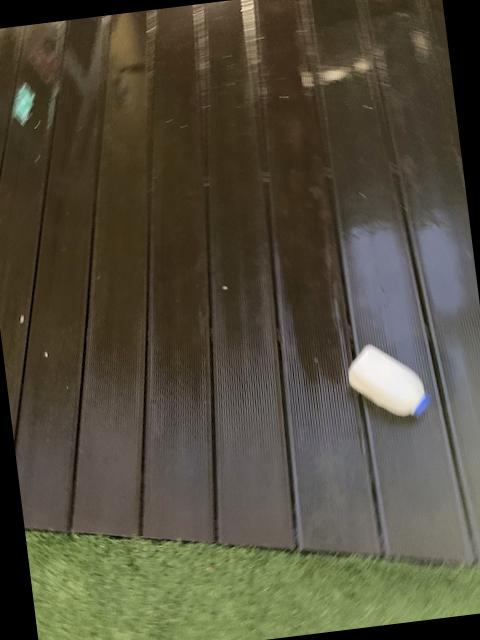plastic: (349, 342, 430, 414)
